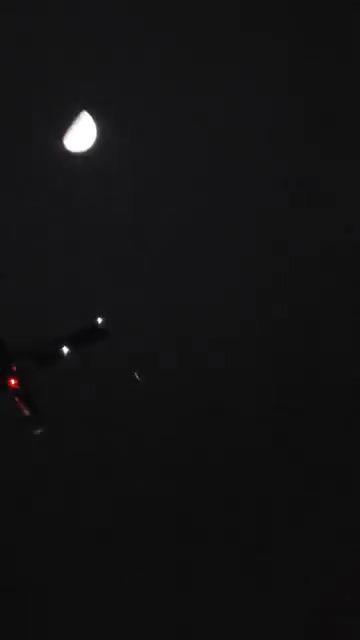Plane: (0, 306, 120, 441)
